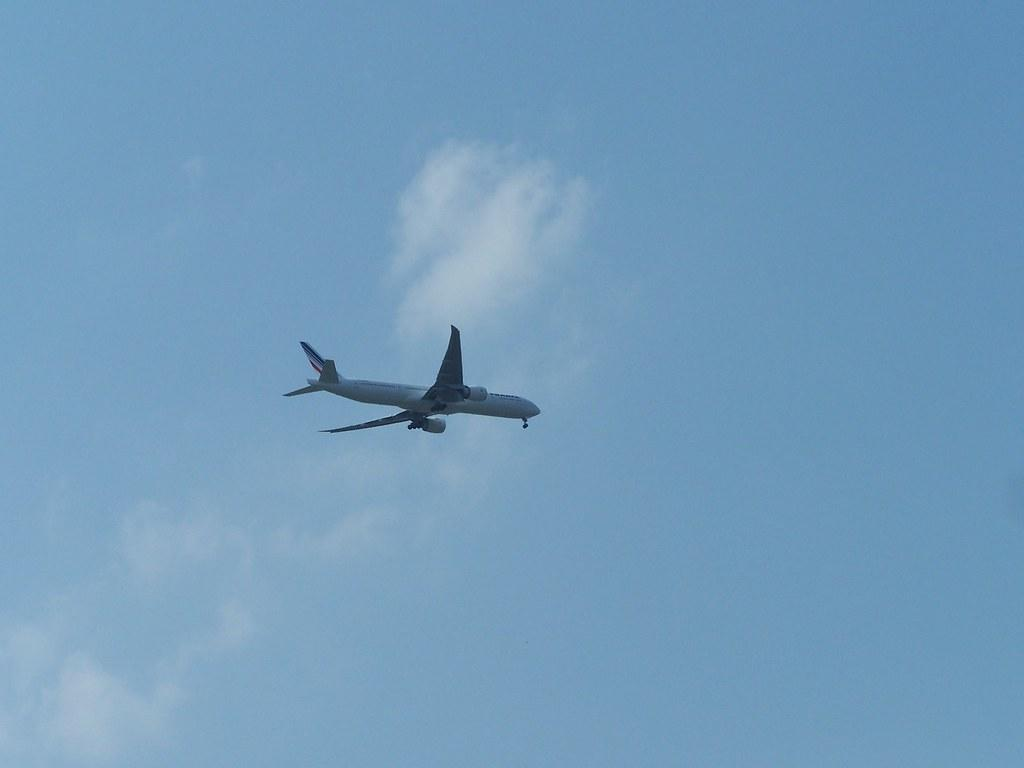plane: (282, 324, 542, 435)
